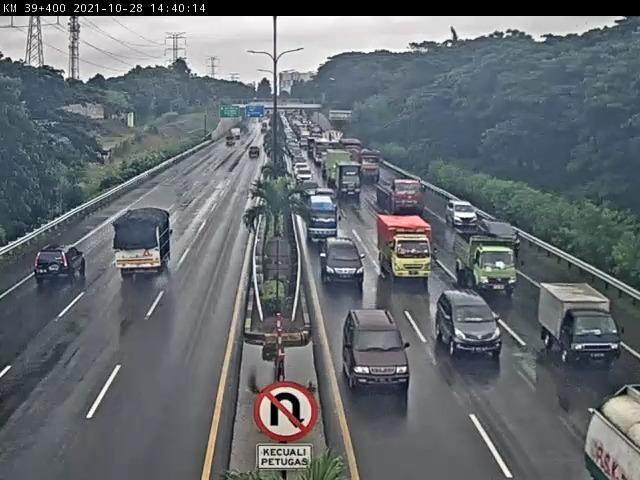bus: (306, 196, 342, 248)
car: (543, 286, 624, 364), (342, 307, 413, 392), (434, 290, 504, 356), (320, 238, 367, 289), (37, 243, 90, 284), (480, 219, 523, 252), (446, 198, 481, 230)
truck: (450, 229, 520, 293), (114, 208, 176, 280), (378, 214, 436, 284), (376, 175, 427, 212)
